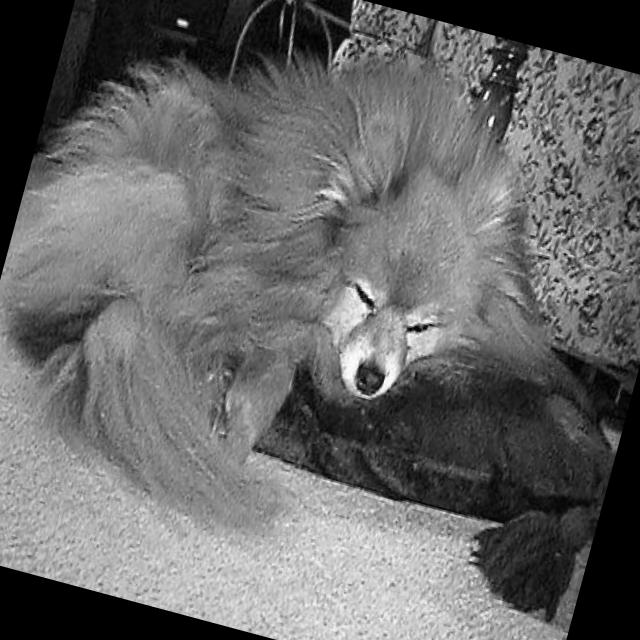laying down: (0, 0, 625, 610)
